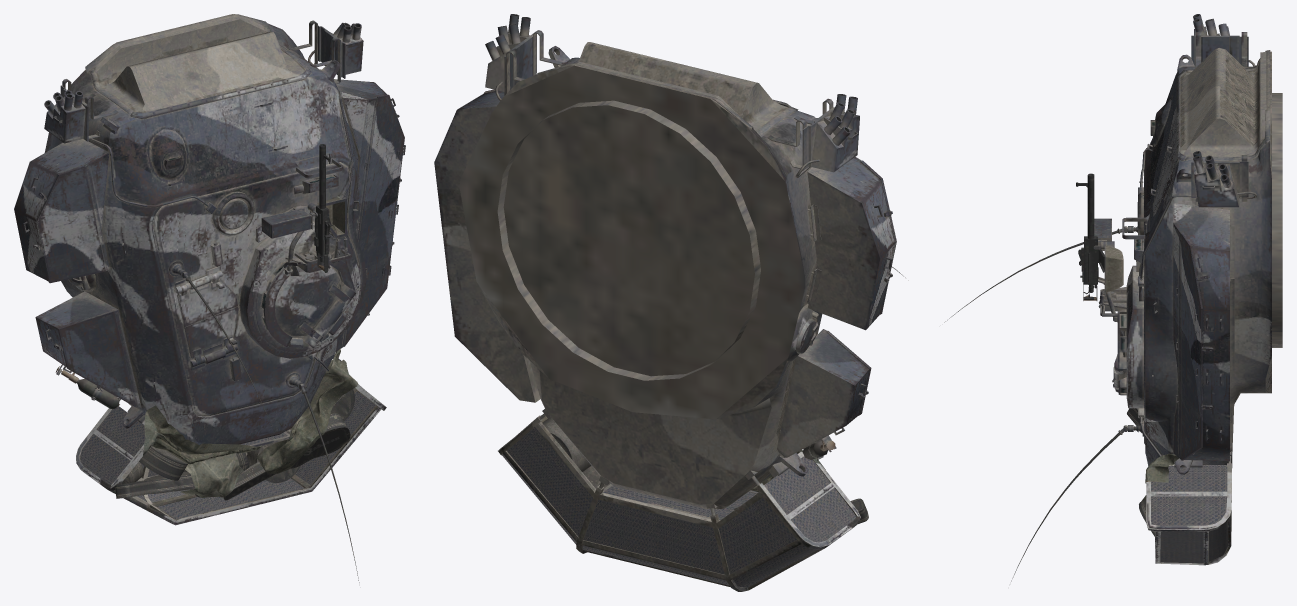
Rendered from Turret_01.glb.
3 views of the same model, side by side, from view 1: azimuth 30°, elevation 25°; view 2: azimuth 150°, elevation 25°; view 3: azimuth 270°, elevation 25° (orthographic). The views are drawn at different scales.
Parts seen in each view (by area): view 1: set_0_group_0, set_0_group_1; view 2: set_0_group_0, set_0_group_1; view 3: set_0_group_0, set_0_group_1.
Part boxes in pixels (x1,y1,x2,y2): set_0_group_0: (14, 14, 405, 582); set_0_group_1: (115, 348, 357, 500); set_0_group_0: (434, 14, 908, 591); set_0_group_1: (542, 417, 868, 556); set_0_group_0: (944, 14, 1282, 581); set_0_group_1: (1127, 408, 1178, 536).
Bounding box in the file's own units: 3.33 × 4.01 × 2.58.
2 materials, 2 textured.
